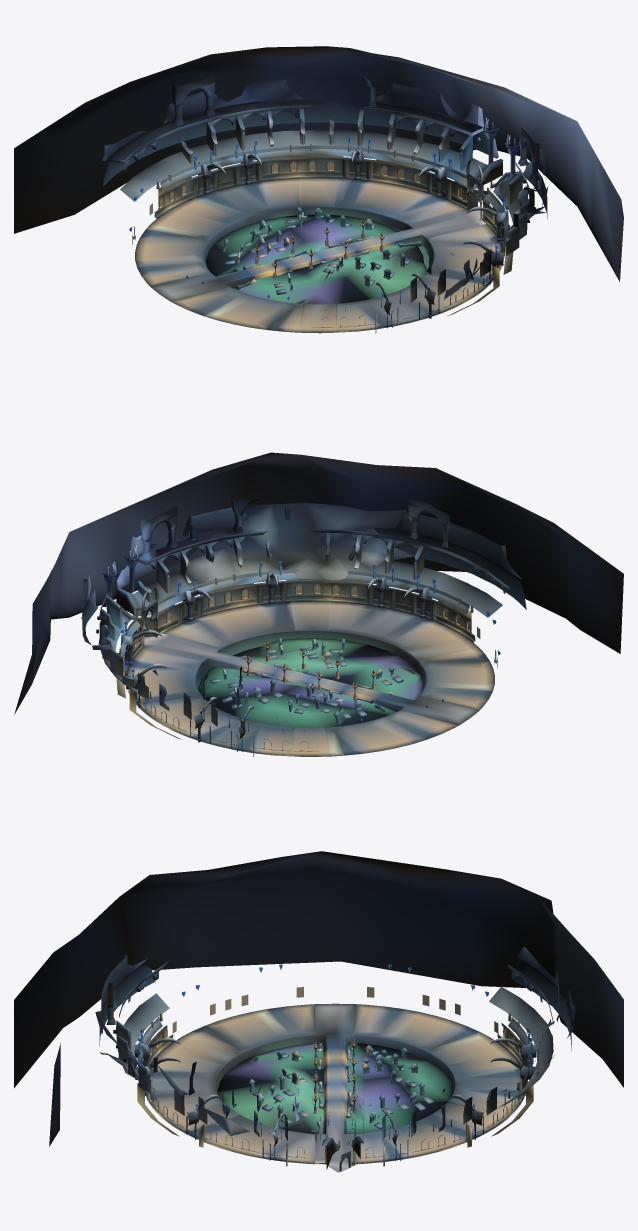
File: 14Arena.gltf
3 renders of one model, top to bottom at view 1: azimuth 30°, elevation 25°; view 2: azimuth 150°, elevation 25°; view 3: azimuth 270°, elevation 25°, orthographic. The views are drawn at different scales.
Visible parts, largest first — view 1: stg040_o48_Mesh_0051, stg040_o48_Mesh_0104, stg040_k48_Mesh_0008, stg040_o48_Mesh_0066, stg040_o48_Mesh_0091, stg040_o48_Mesh_0023, stg040_o48_Mesh_0085, stg040_o48_Mesh_0060, stg040_o48_Mesh_0050, stg040_o48_Mesh_0105, stg040_o48_Mesh_0038, stg040_o48_Mesh_0106 (+15 smaller); view 2: stg040_o48_Mesh_0051, stg040_o48_Mesh_0104, stg040_k48_Mesh_0008, stg040_o48_Mesh_0001, stg040_o48_Mesh_0091, stg040_o48_Mesh_0023, stg040_o48_Mesh_0066, stg040_o48_Mesh_0060, stg040_o48_Mesh_0050, stg040_o48_Mesh_0085, stg040_o48_Mesh_0105, stg040_o48_Mesh_0038 (+12 smaller); view 3: stg040_o48_Mesh_0051, stg040_o48_Mesh_0104, stg040_k48_Mesh_0008, stg040_o48_Mesh_0091, stg040_o48_Mesh_0023, stg040_o48_Mesh_0085, stg040_o48_Mesh_0105, stg040_o48_Mesh_0060, stg040_o48_Mesh_0066, stg040_o48_Mesh_0106, stg040_o48_Mesh_0050, stg040_o48_Mesh_0055 (+11 smaller).
Boxes of the visible parts, x1=… form: stg040_o48_Mesh_0051: x1=14, y1=46, x2=623, y2=281; stg040_o48_Mesh_0104: x1=144, y1=181, x2=493, y2=328; stg040_k48_Mesh_0008: x1=206, y1=214, x2=427, y2=304; stg040_o48_Mesh_0066: x1=103, y1=82, x2=548, y2=234; stg040_o48_Mesh_0091: x1=135, y1=145, x2=519, y2=332; stg040_o48_Mesh_0023: x1=124, y1=77, x2=546, y2=332; stg040_o48_Mesh_0085: x1=120, y1=130, x2=521, y2=223; stg040_o48_Mesh_0060: x1=154, y1=110, x2=509, y2=328; stg040_o48_Mesh_0050: x1=104, y1=81, x2=537, y2=303; stg040_o48_Mesh_0105: x1=151, y1=210, x2=485, y2=333; stg040_o48_Mesh_0038: x1=150, y1=75, x2=534, y2=332; stg040_o48_Mesh_0106: x1=151, y1=178, x2=484, y2=300; stg040_o48_Mesh_0051: x1=14, y1=452, x2=623, y2=714; stg040_o48_Mesh_0104: x1=135, y1=605, x2=485, y2=752; stg040_k48_Mesh_0008: x1=198, y1=638, x2=423, y2=727; stg040_o48_Mesh_0001: x1=187, y1=502, x2=413, y2=583; stg040_o48_Mesh_0091: x1=101, y1=569, x2=494, y2=756; stg040_o48_Mesh_0023: x1=83, y1=507, x2=510, y2=756; stg040_o48_Mesh_0066: x1=82, y1=510, x2=526, y2=671; stg040_o48_Mesh_0060: x1=104, y1=553, x2=475, y2=752; stg040_o48_Mesh_0050: x1=83, y1=513, x2=506, y2=731; stg040_o48_Mesh_0085: x1=100, y1=561, x2=502, y2=704; stg040_o48_Mesh_0105: x1=142, y1=634, x2=478, y2=756; stg040_o48_Mesh_0038: x1=133, y1=498, x2=479, y2=756; stg040_o48_Mesh_0051: x1=14, y1=851, x2=623, y2=1146; stg040_o48_Mesh_0104: x1=154, y1=1008, x2=516, y2=1159; stg040_k48_Mesh_0008: x1=217, y1=1043, x2=452, y2=1134; stg040_o48_Mesh_0091: x1=139, y1=1004, x2=531, y2=1164; stg040_o48_Mesh_0023: x1=101, y1=956, x2=572, y2=1169; stg040_o48_Mesh_0085: x1=117, y1=986, x2=553, y2=1108; stg040_o48_Mesh_0105: x1=163, y1=1037, x2=507, y2=1172; stg040_o48_Mesh_0060: x1=130, y1=1030, x2=540, y2=1157; stg040_o48_Mesh_0066: x1=99, y1=958, x2=575, y2=1131; stg040_o48_Mesh_0106: x1=163, y1=1003, x2=507, y2=1130; stg040_o48_Mesh_0050: x1=101, y1=947, x2=554, y2=1171; stg040_o48_Mesh_0055: x1=248, y1=1045, x2=433, y2=1129.
Size of the model in its own units: 252 by 75.83 by 254.
